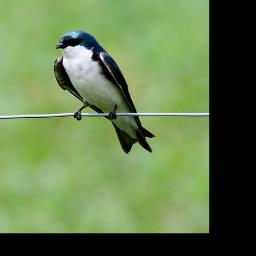Swallow: (53, 30, 157, 155)
